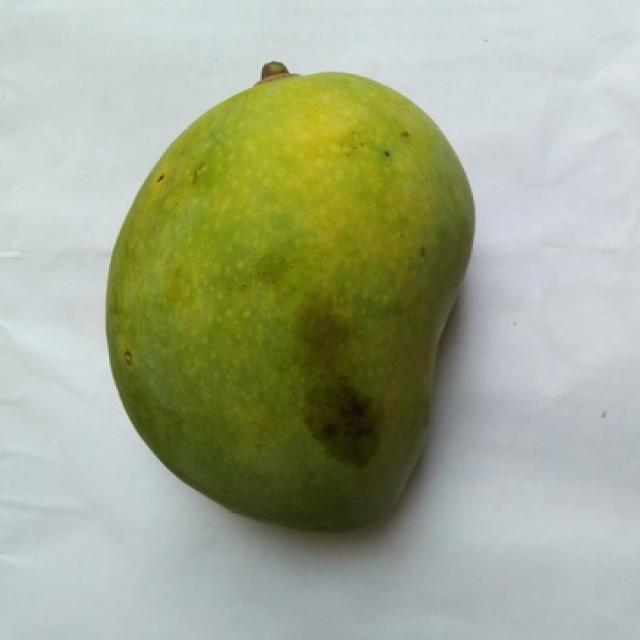Mango: (105, 73, 473, 531)
